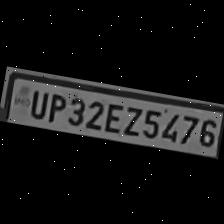2: (82, 94, 106, 130)
3: (64, 91, 86, 126)
4: (158, 106, 182, 142)
5: (138, 103, 162, 138)
6: (194, 114, 218, 148)
7: (176, 110, 198, 144)
E: (101, 97, 124, 132)
P: (43, 88, 66, 124)
U: (24, 85, 48, 119)
Z: (119, 101, 141, 135)
